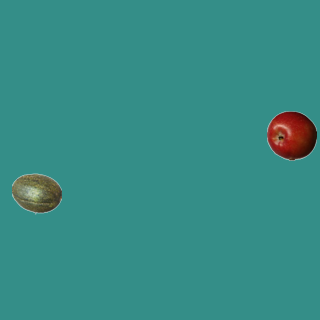Apple Braeburn: (266, 110, 316, 160)
Melon Piel de Sapo: (11, 168, 61, 218)
